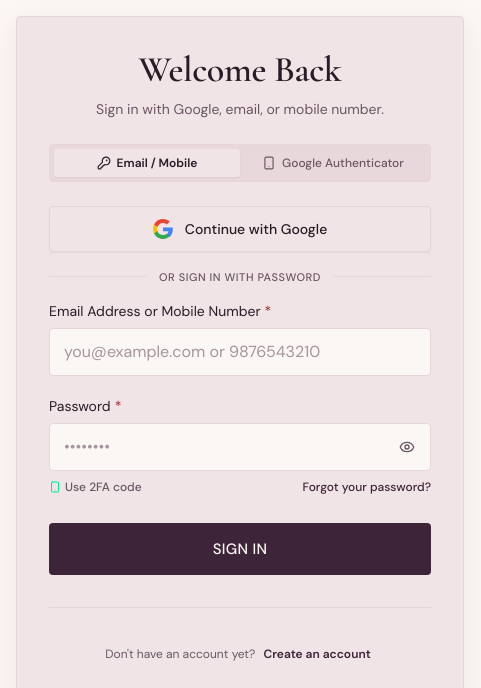
Test case: FE-25: Sign up and login pages › Login Page › shows a general message on failed login that does not reveal which credential was incorrect
Type "user@example.com" into the field labelled "Email Address or Mobile Number*" at (240, 352), box [49,328,431,376]
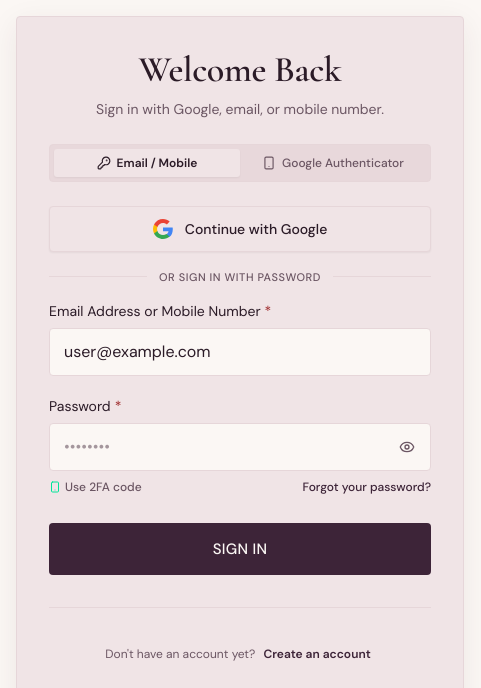
Type "WrongPassword!" into the password field labelled "Password*" at (240, 448), box [49,424,431,472]
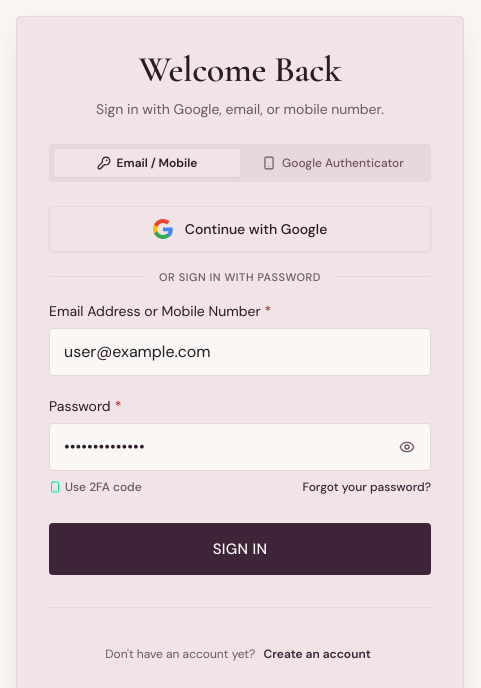
Click the button with test id "login-submit-btn" at (240, 550), box [49,524,431,576]
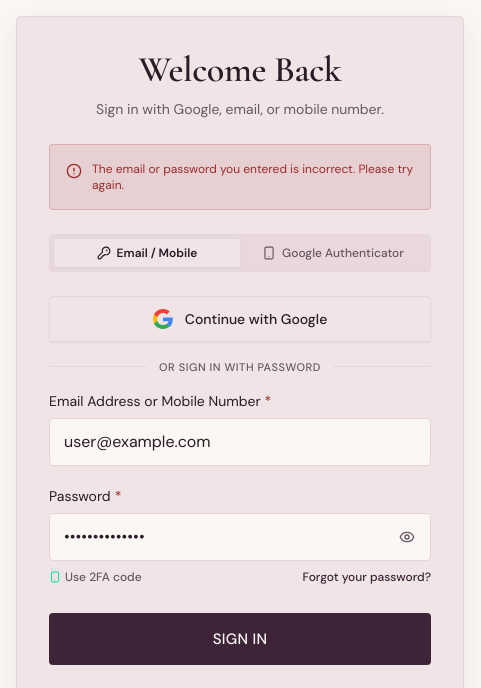
Expected: the message "The email or password you entered is incorrect. Please try again." is shown, [49,144,431,210]
Expected: the message with test id "login-general-error" shows "The email or password you entered is incorrect", [92,162,413,194]
